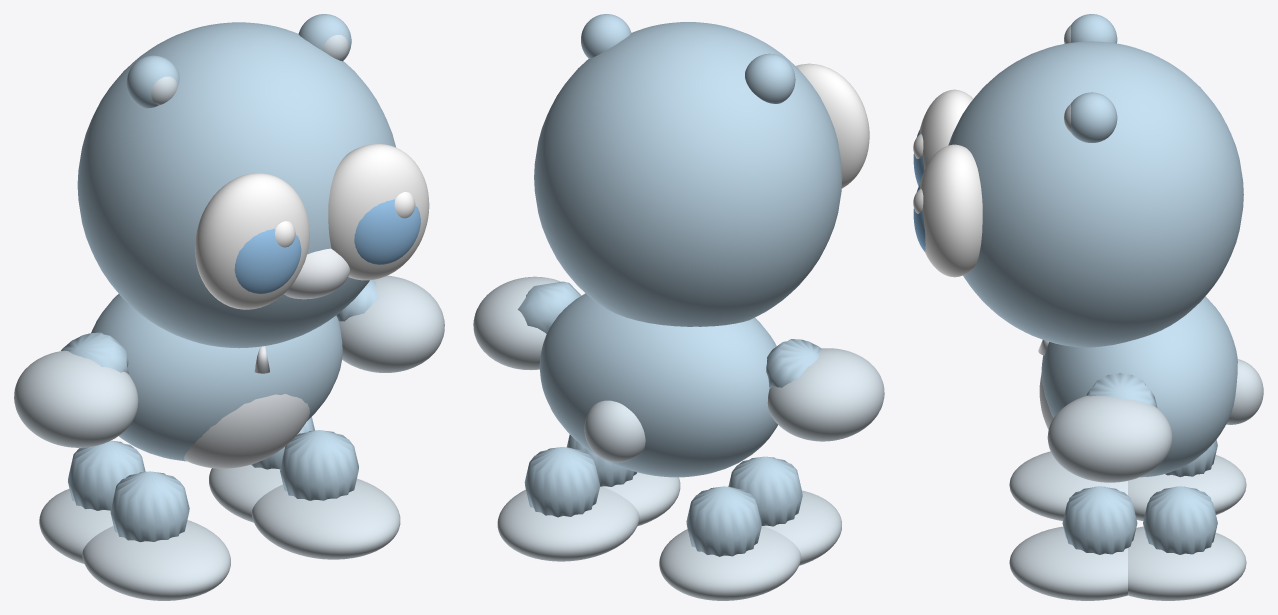
The model's file is frostbear.glb.
3 views of the same model, side by side, from view 1: azimuth 30°, elevation 25°; view 2: azimuth 150°, elevation 25°; view 3: azimuth 270°, elevation 25° (orthographic). The views are drawn at different scales.
Parts seen in each view (by area): view 1: Head, Body, Hand_0, LE_Scl, Foot_FR, Foot_FL, RE_Scl, Hand_1, Belly, Leg_FL, Leg_FR, Leg_BL (+10 smaller); view 2: Head, Body, Hand_0, Foot_BR, Foot_BL, Hand_1, Leg_BR, Leg_BL, LE_Scl, Leg_FL, Tail, Foot_FL (+6 smaller); view 3: Head, Body, Hand_1, RE_Scl, Foot_FR, Foot_BR, Leg_BR, Leg_FR, Foot_FL, Foot_BL, LE_Scl, Ear_1 (+4 smaller).
Boxes of the visible parts, <box> form: Head: <box>77,22,395,348</box>; Body: <box>91,294,342,461</box>; Hand_0: <box>14,350,138,447</box>; LE_Scl: <box>195,173,309,309</box>; Foot_FR: <box>251,478,400,559</box>; Foot_FL: <box>82,520,230,600</box>; RE_Scl: <box>328,144,429,280</box>; Hand_1: <box>339,275,444,372</box>; Belly: <box>184,394,309,468</box>; Leg_FL: <box>110,471,189,542</box>; Leg_FR: <box>280,430,358,500</box>; Leg_BL: <box>68,440,145,510</box>; Head: <box>534,22,842,326</box>; Body: <box>539,293,777,477</box>; Hand_0: <box>767,348,884,441</box>; Foot_BR: <box>497,486,639,561</box>; Foot_BL: <box>659,526,801,600</box>; Hand_1: <box>473,276,581,370</box>; Leg_BR: <box>524,447,599,517</box>; Leg_BL: <box>686,486,761,556</box>; LE_Scl: <box>796,63,869,188</box>; Leg_FL: <box>728,456,802,526</box>; Tail: <box>584,400,645,462</box>; Foot_FL: <box>764,490,841,565</box>; Head: <box>948,41,1243,347</box>; Body: <box>1041,296,1237,477</box>; Hand_1: <box>1047,395,1172,482</box>; RE_Scl: <box>919,144,982,277</box>; Foot_FR: <box>1009,526,1127,600</box>; Foot_BR: <box>1128,526,1246,600</box>; Leg_BR: <box>1143,486,1217,554</box>; Leg_FR: <box>1062,486,1137,554</box>; Foot_FL: <box>1009,451,1127,520</box>; Foot_BL: <box>1128,455,1246,520</box>; LE_Scl: <box>919,89,973,170</box>; Ear_1: <box>1071,92,1117,142</box>.
Size of the model in its own units: 1.33 by 1.62 by 1.04.
